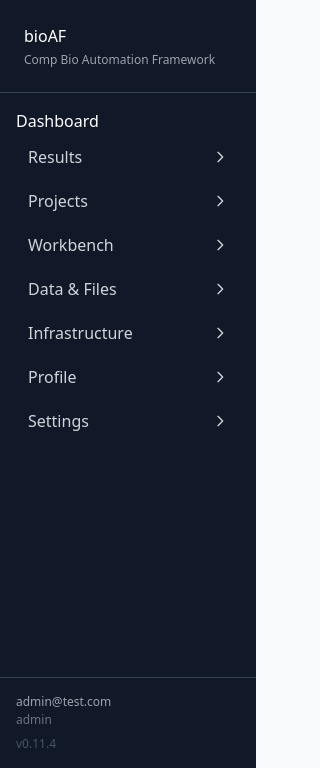
Test: Sidebar component gating › shows Notebooks child when jupyterhub is enabled
Click the button "Workbench" at (128, 245), box top-left (16, 225), bottom-right (240, 265)
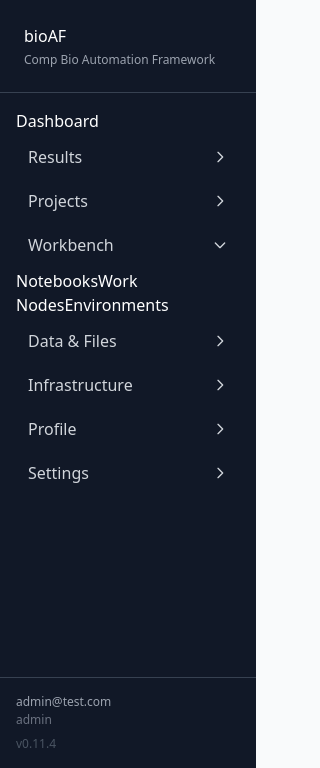
Expected: the link "Notebooks" is shown, top-left (16, 270), bottom-right (98, 292)
